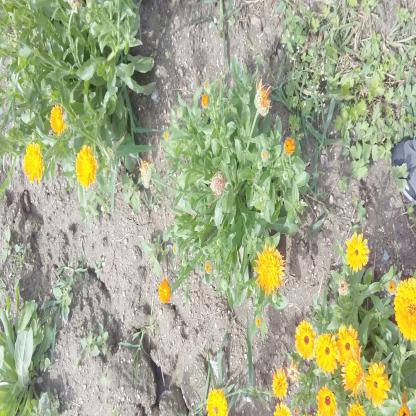marigold: (256, 244, 286, 294), (394, 279, 416, 342), (364, 363, 389, 409), (340, 353, 365, 399), (337, 324, 361, 368), (75, 145, 97, 189), (21, 142, 43, 182), (316, 335, 338, 374), (346, 234, 368, 270), (296, 322, 316, 360), (315, 386, 339, 415), (206, 389, 230, 416), (272, 371, 288, 399), (51, 107, 66, 134), (158, 279, 170, 303)
